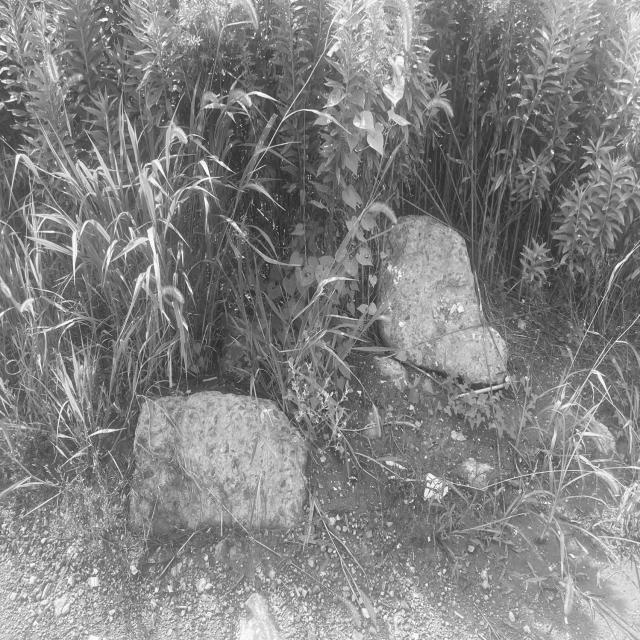Stone: (130, 391, 306, 535), (378, 216, 508, 384)
